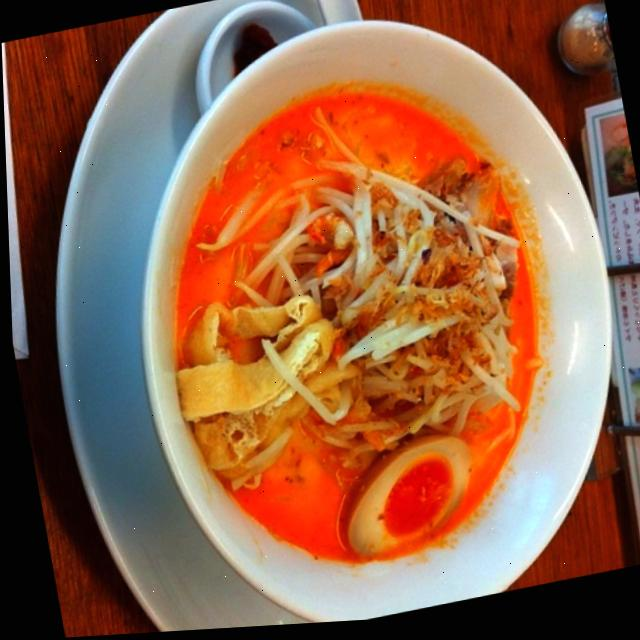面条主食: (86, 8, 640, 636)
